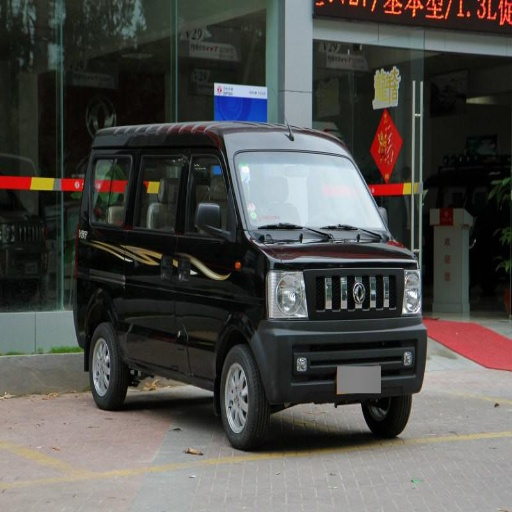front_bumper: (254, 266, 427, 404)
front_right_door: (162, 145, 239, 375)
front_right_light: (266, 267, 306, 318)
trunk: (92, 207, 160, 292)
